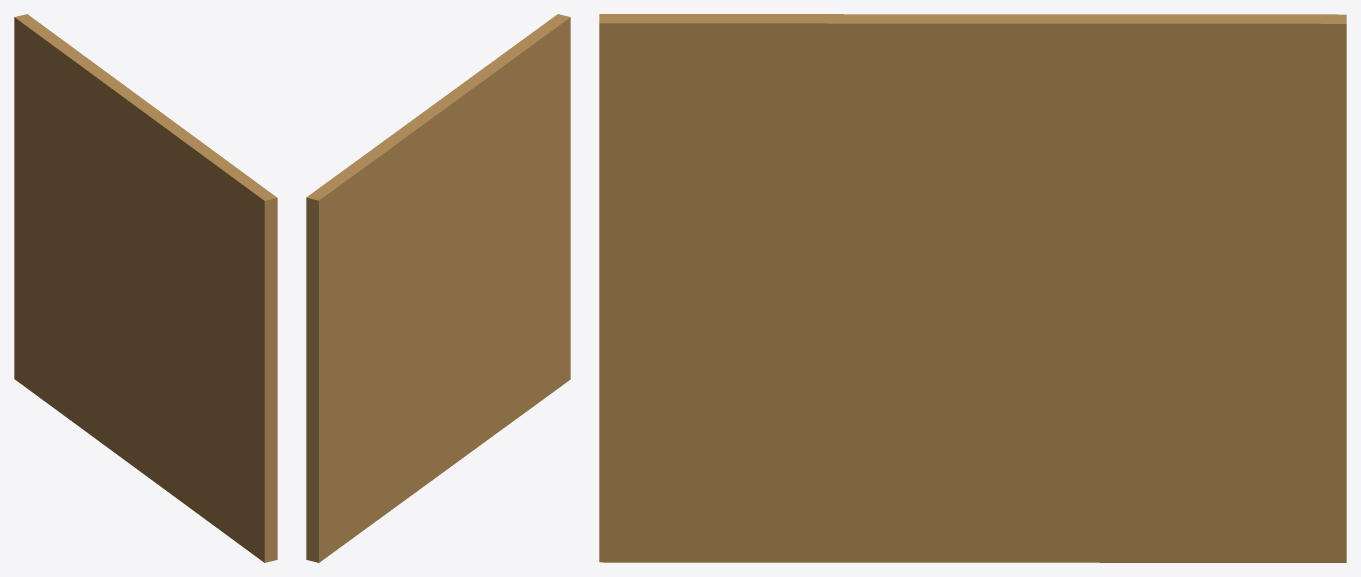
3 views of the same model, side by side, from view 1: azimuth 30°, elevation 25°; view 2: azimuth 150°, elevation 25°; view 3: azimuth 270°, elevation 25° (orthographic). The views are drawn at different scales.
Visible parts, largest first — view 1: FF-W156; view 2: FF-W156; view 3: FF-W156.
Part boxes in pixels (<box>): FF-W156: <box>14,14,277,562</box>; FF-W156: <box>306,14,570,562</box>; FF-W156: <box>599,14,1346,562</box>.
Size of the model in its own units: 0.0948 by 2.42 by 3.04.
